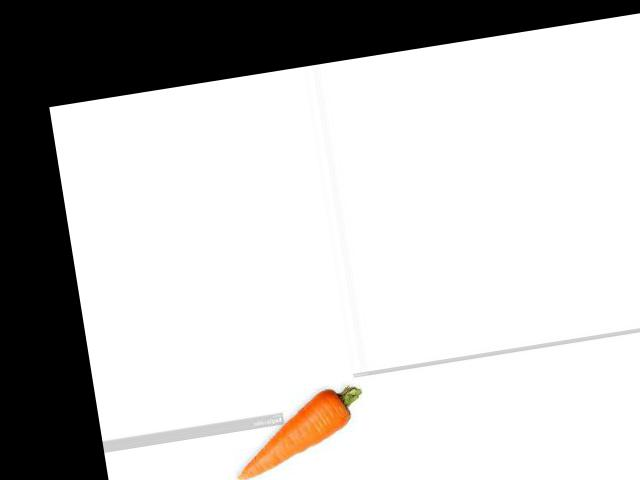carrot: (222, 384, 364, 480)
